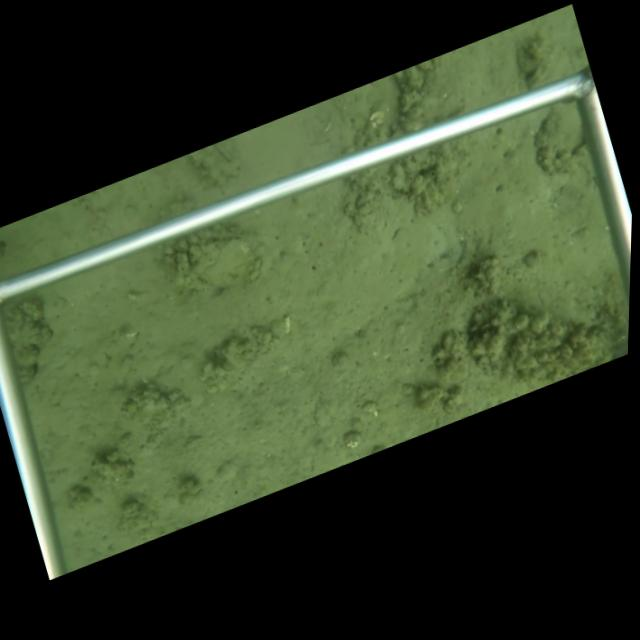Oyster-Indeterminate: (184, 234, 258, 290), (532, 102, 586, 160)
